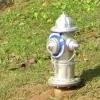a fire hydrant: (46, 13, 83, 89)
